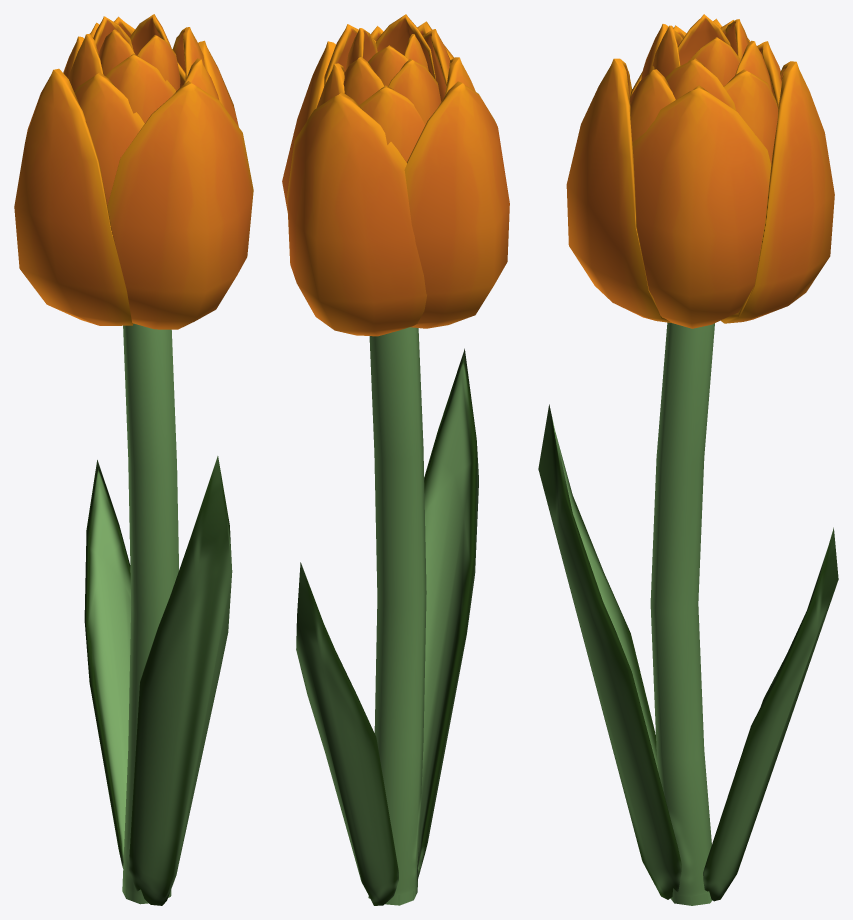
File: tulp low.fbx
3 views of the same model, side by side, from view 1: azimuth 30°, elevation 25°; view 2: azimuth 150°, elevation 25°; view 3: azimuth 270°, elevation 25° (orthographic).
Visible parts, largest first — view 1: Flower; view 2: Flower; view 3: Flower.
Part boxes in pixels (box(x1,y1,x2,y2)): Flower: box(14, 14, 253, 905); Flower: box(282, 14, 509, 905); Flower: box(538, 14, 838, 905).
Bounding box in the file's own units: 0.2728 × 1.04 × 0.3251.
